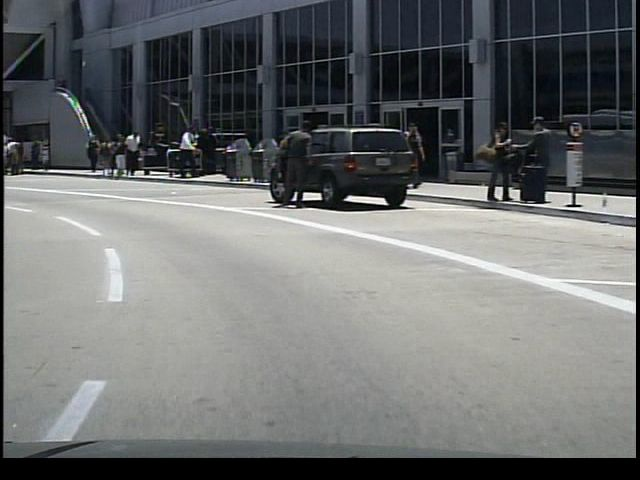person: (514, 114, 554, 202), (277, 117, 311, 216), (478, 115, 512, 204), (173, 123, 197, 182), (105, 131, 125, 181), (121, 128, 140, 179), (79, 131, 98, 176)
